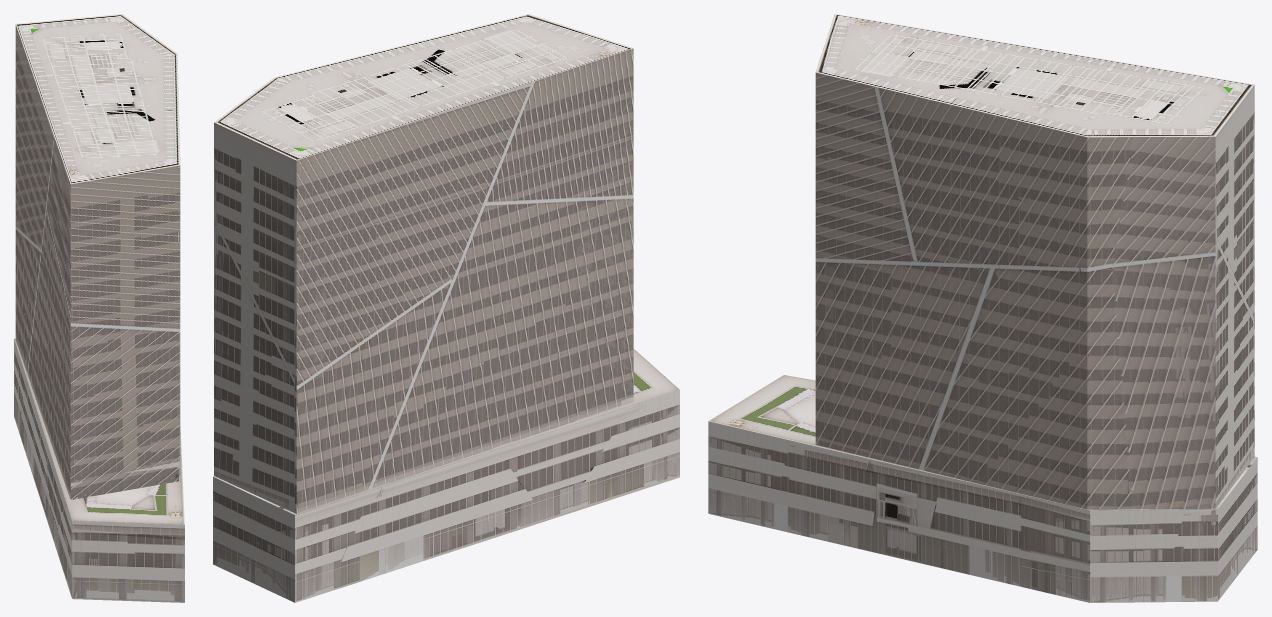
The model's file is 508OFFICES.glb.
3 views of the same model, side by side, from view 1: azimuth 30°, elevation 25°; view 2: azimuth 150°, elevation 25°; view 3: azimuth 270°, elevation 25° (orthographic). The views are drawn at different scales.
Parts seen in each view (by area): view 1: 3.001; view 2: 3.001; view 3: 3.001.
Boxes of the visible parts, x1,y1,x2,y2 form: 3.001: (14, 14, 184, 602); 3.001: (213, 14, 679, 602); 3.001: (708, 14, 1257, 602).
Size of the model in its own units: 50.03 by 79.96 by 85.69.
Materials: 1 (1 with a texture image).
